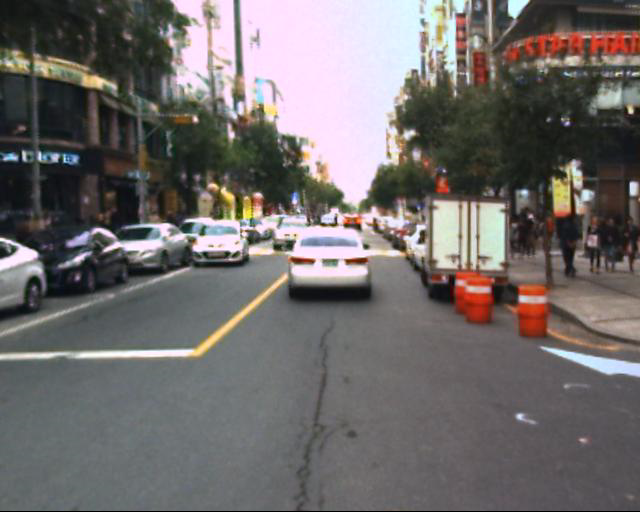person: (512, 201, 637, 276), (579, 210, 609, 281), (556, 211, 584, 284), (594, 212, 621, 279), (613, 213, 637, 282)
